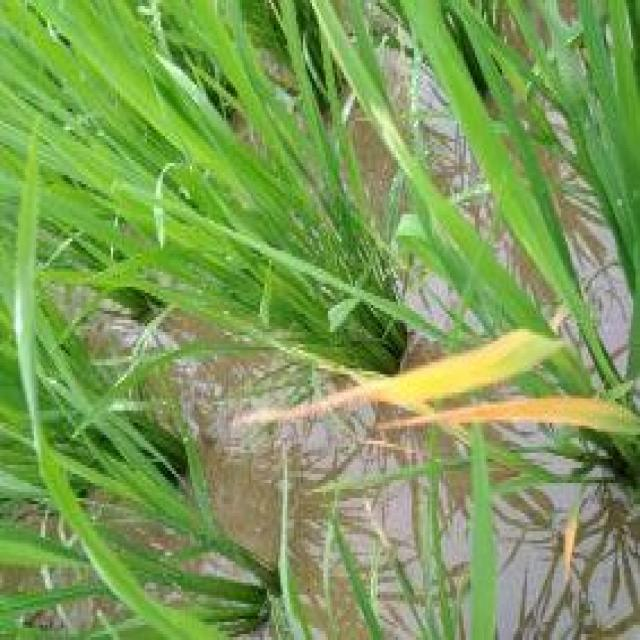Tungro: (290, 292, 625, 476)
